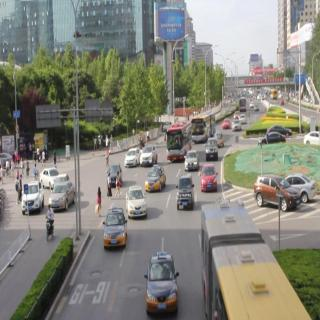Car: (144, 248, 183, 320), (254, 172, 300, 226), (283, 164, 318, 212), (174, 173, 206, 223), (164, 112, 194, 165), (18, 174, 48, 221), (103, 202, 129, 255), (52, 177, 82, 219), (121, 185, 151, 222), (190, 108, 216, 144), (144, 160, 168, 194), (256, 129, 287, 155), (197, 162, 219, 194), (122, 142, 143, 174), (266, 119, 295, 141), (40, 156, 58, 191), (104, 160, 123, 191), (301, 125, 320, 154), (204, 134, 222, 164), (231, 116, 251, 138), (182, 154, 201, 176), (141, 144, 157, 167), (219, 114, 234, 133), (216, 129, 227, 148), (239, 97, 248, 113)
